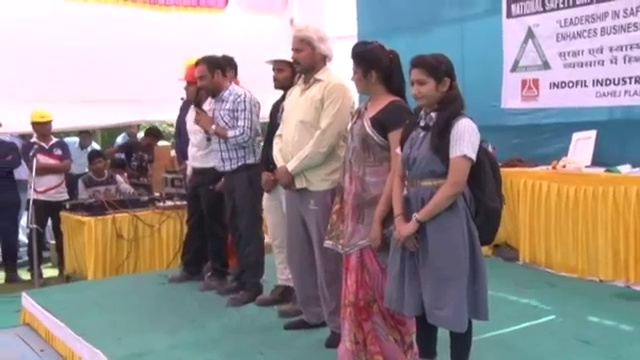helmet: (264, 41, 296, 65), (178, 57, 200, 84), (29, 108, 53, 126)
helmet_off: (405, 52, 462, 119), (346, 42, 400, 103), (186, 56, 237, 104), (284, 25, 332, 73), (141, 126, 162, 153), (86, 150, 108, 175), (71, 132, 89, 152), (122, 124, 140, 144)
helmet_on: (263, 43, 298, 95), (178, 56, 202, 106), (29, 107, 54, 145)
person: (386, 47, 506, 360), (259, 25, 344, 357), (332, 42, 405, 360), (193, 60, 261, 303), (166, 55, 227, 295), (256, 40, 304, 319), (21, 107, 81, 281), (76, 149, 139, 205), (0, 121, 21, 288), (112, 126, 162, 195), (63, 131, 102, 203)
